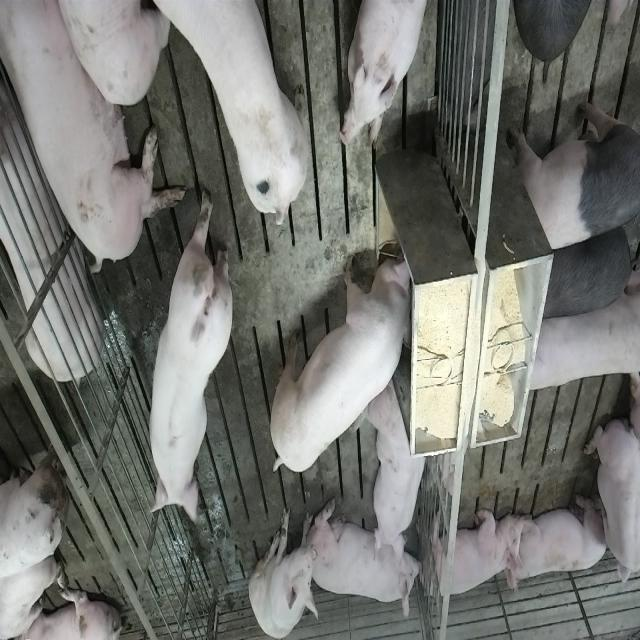Feeding: (273, 245, 421, 475)
Lateral_lying: (4, 4, 186, 278), (1, 56, 102, 384)
Sitting: (249, 503, 319, 638)
Standing: (134, 0, 318, 222), (146, 180, 234, 526), (511, 95, 639, 256), (522, 280, 638, 395), (534, 220, 638, 322)
Sternal_lying: (342, 0, 432, 148), (314, 506, 424, 616), (365, 377, 431, 560), (583, 413, 637, 598), (510, 492, 610, 588), (426, 507, 520, 602)
